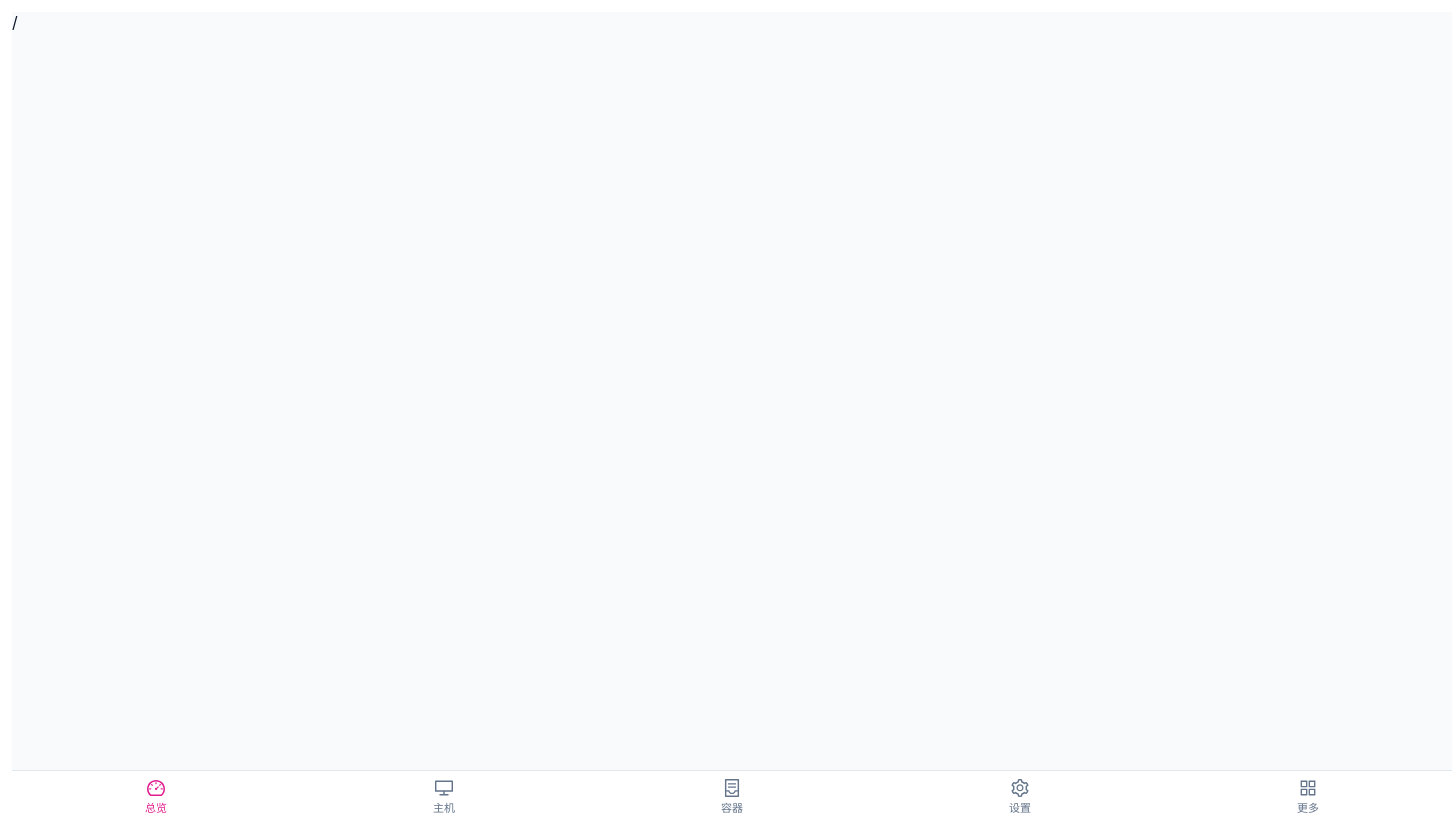
Test: MobileTabBar › 点击槽导航到对应路径
Click the link "容器": [732, 796] box [721, 778, 743, 814]
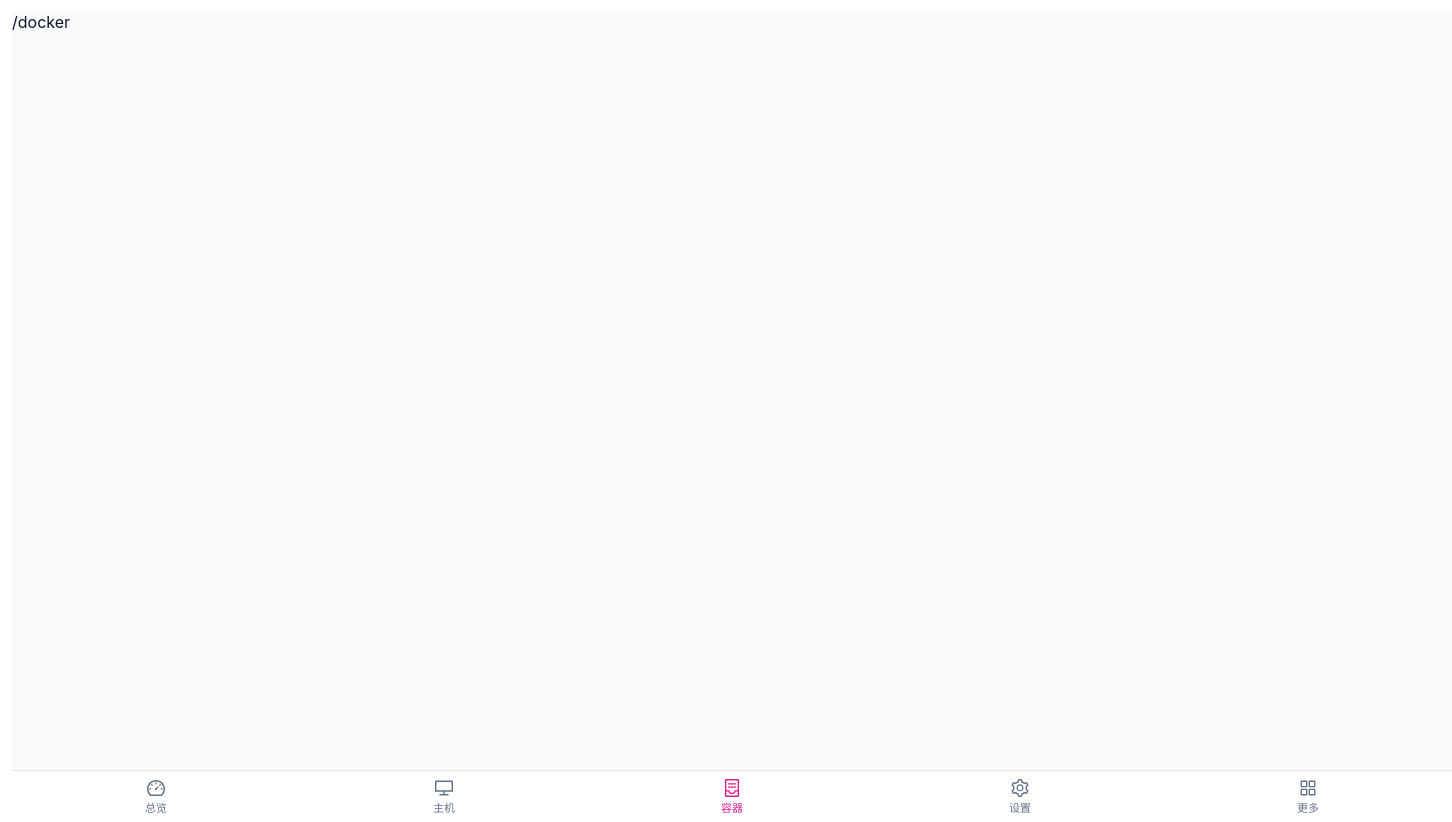
Expected: the text with test id "loc" reads "/docker", [12, 12, 70, 32]
